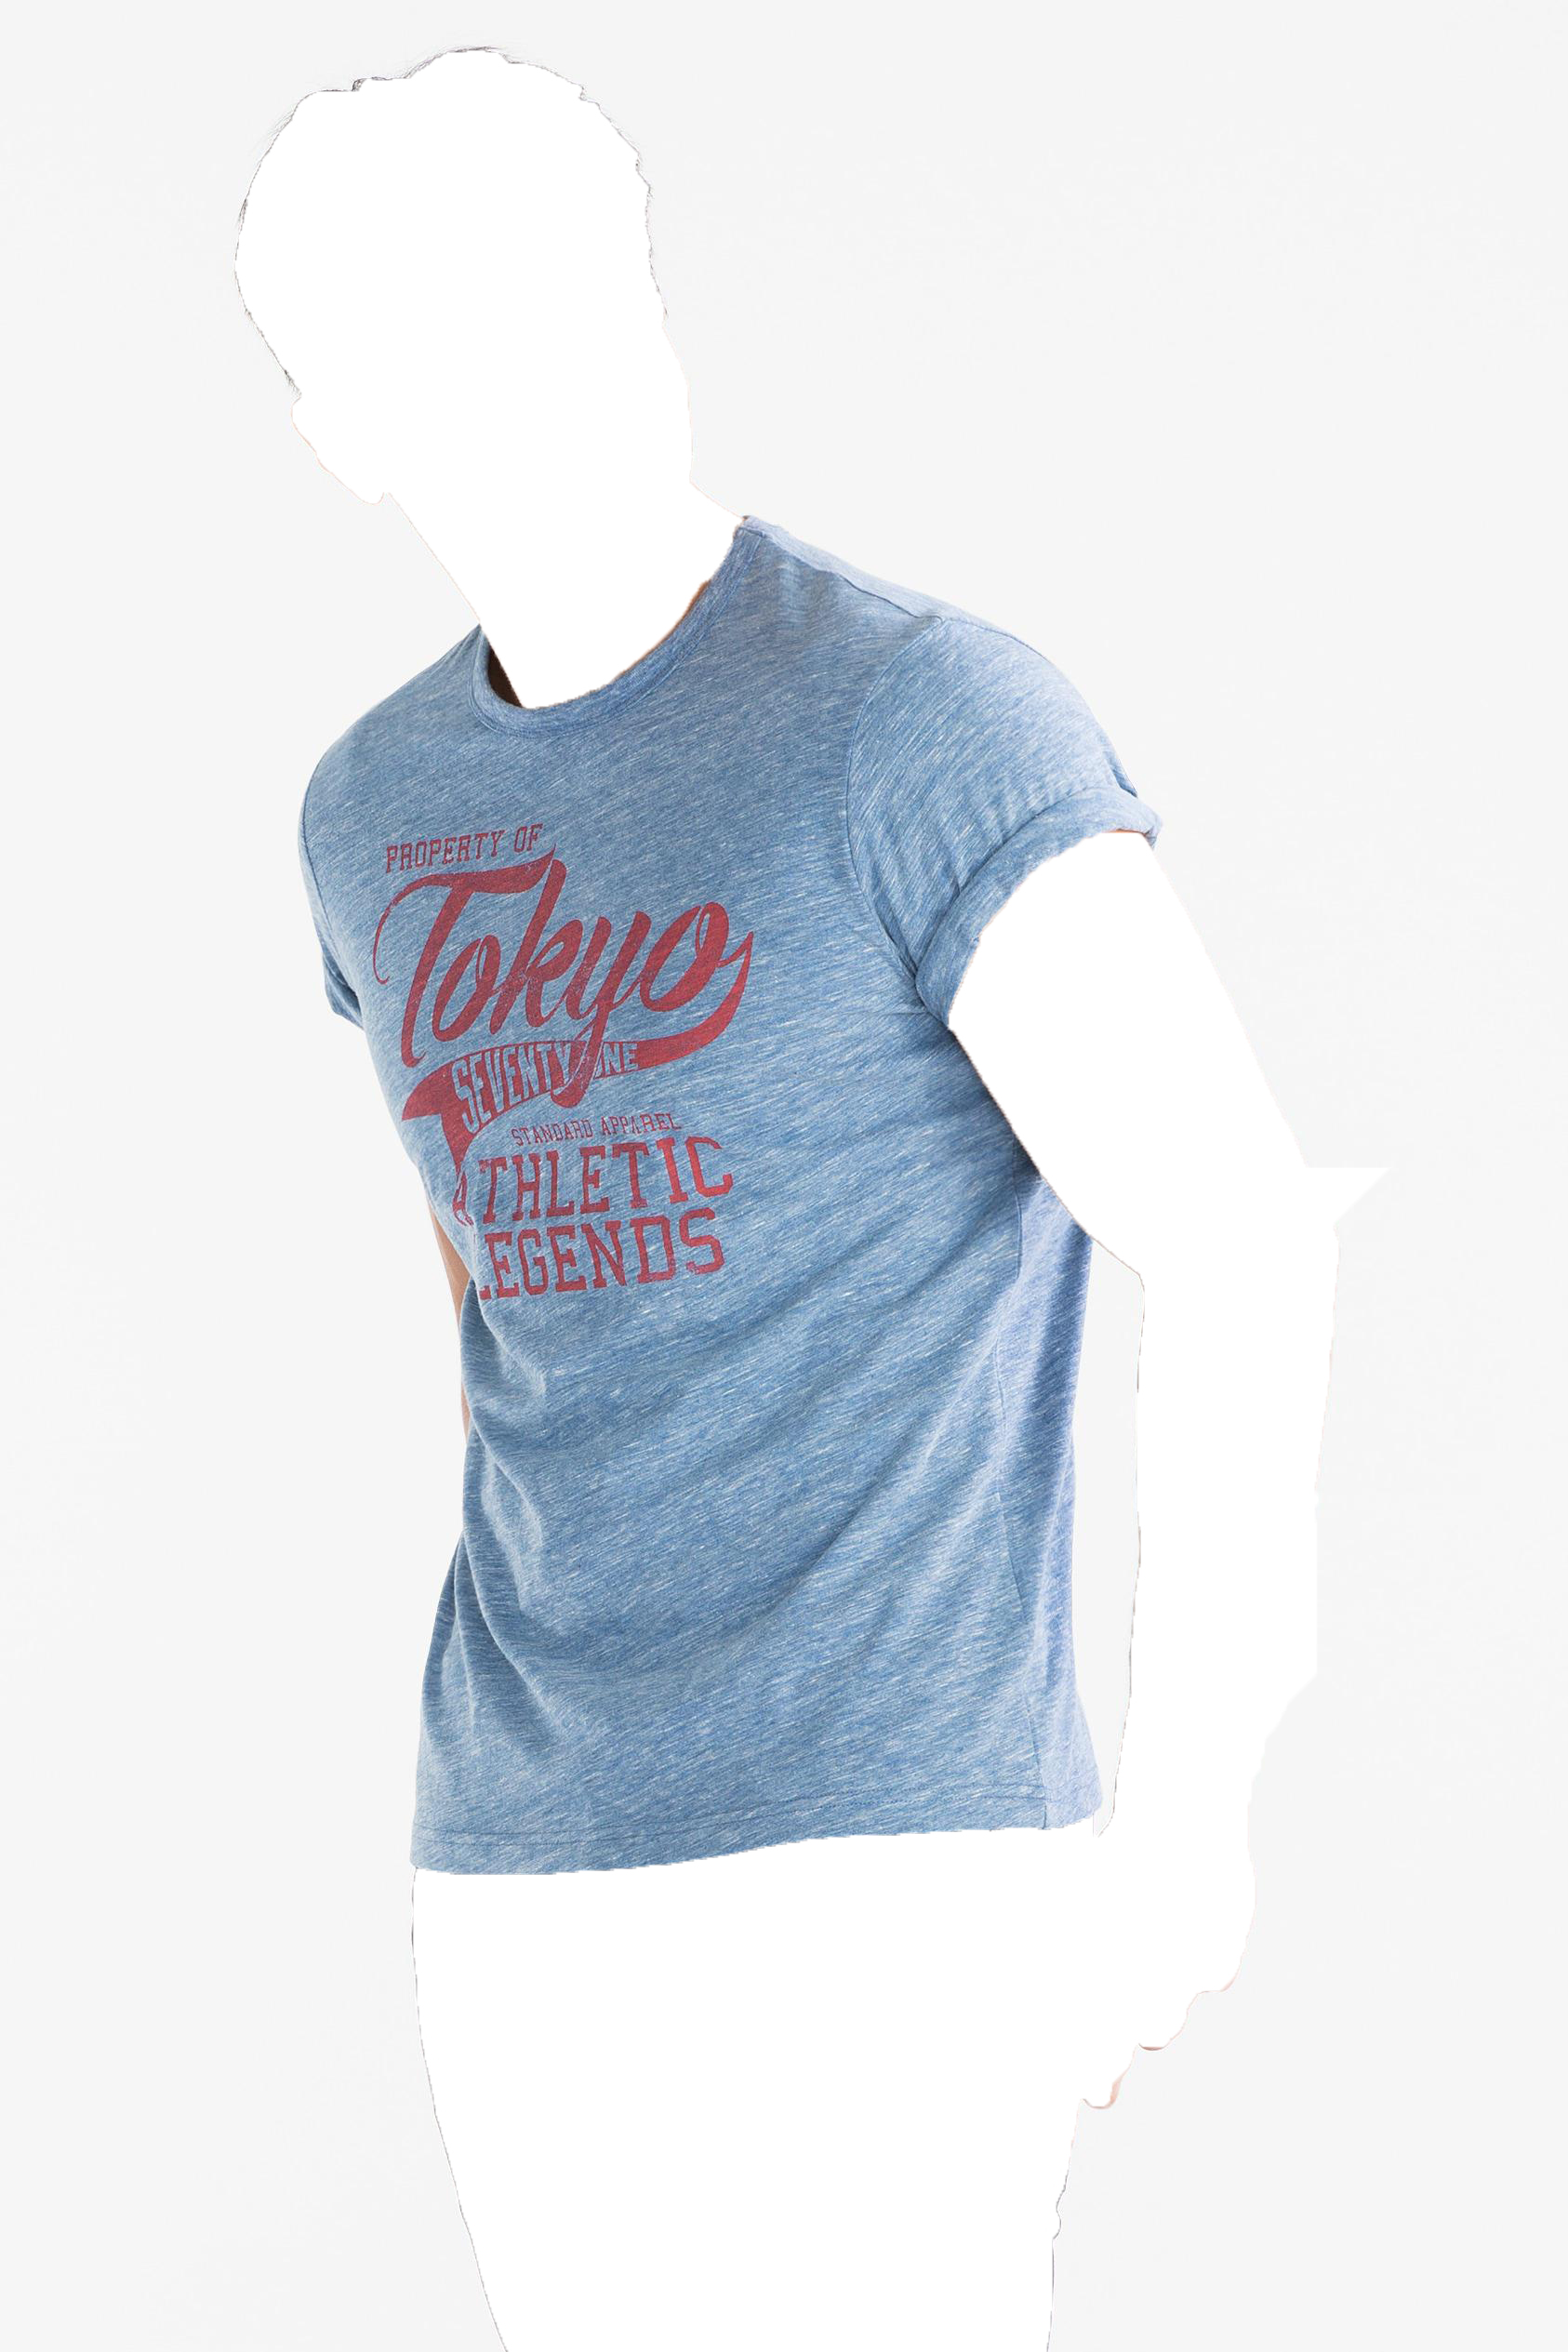teeshirt: (252, 516, 1235, 1913)
